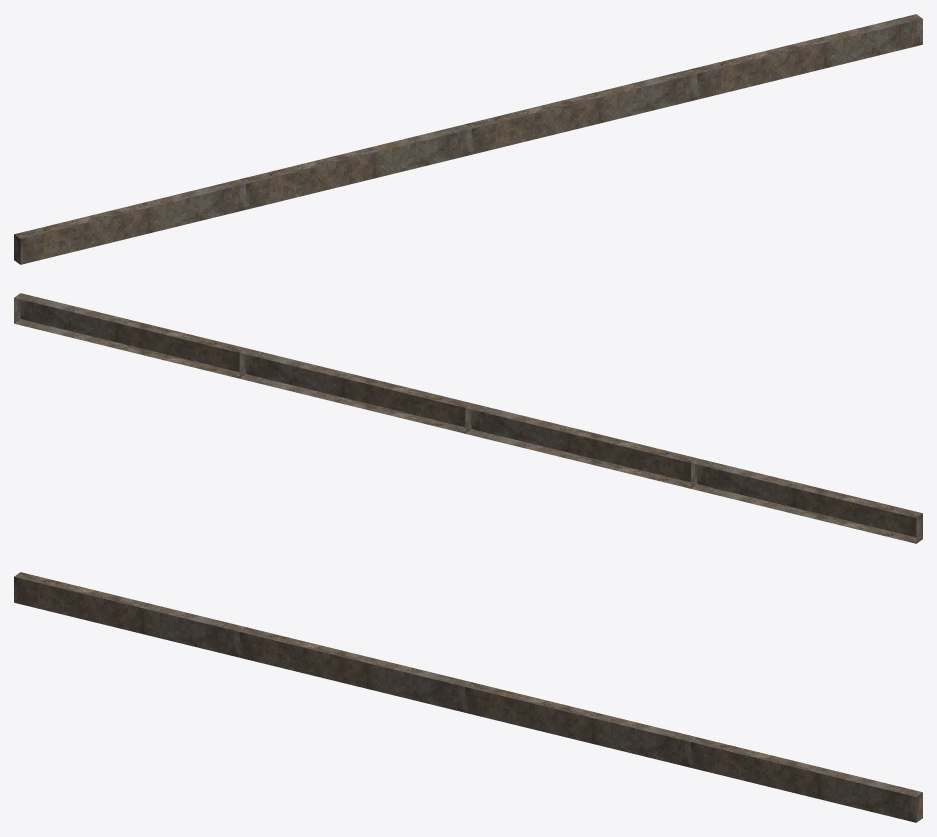
Rendered from wall_cladding_8m_narrow_02.gltf.
3 renders of one model, top to bottom at view 1: azimuth 30°, elevation 25°; view 2: azimuth 150°, elevation 25°; view 3: azimuth 330°, elevation 25°, orthographic.
Visible parts, largest first — view 1: wall_cladding_8m_narrow_02; view 2: wall_cladding_8m_narrow_02; view 3: wall_cladding_8m_narrow_02.
Boxes of the visible parts, x1,y1,x2,y2 form: wall_cladding_8m_narrow_02: (14, 14, 922, 264); wall_cladding_8m_narrow_02: (14, 293, 922, 543); wall_cladding_8m_narrow_02: (14, 572, 922, 822).
Size of the model in its own units: 8 by 0.2188 by 0.1.
Materials: 1 (1 with a texture image).
